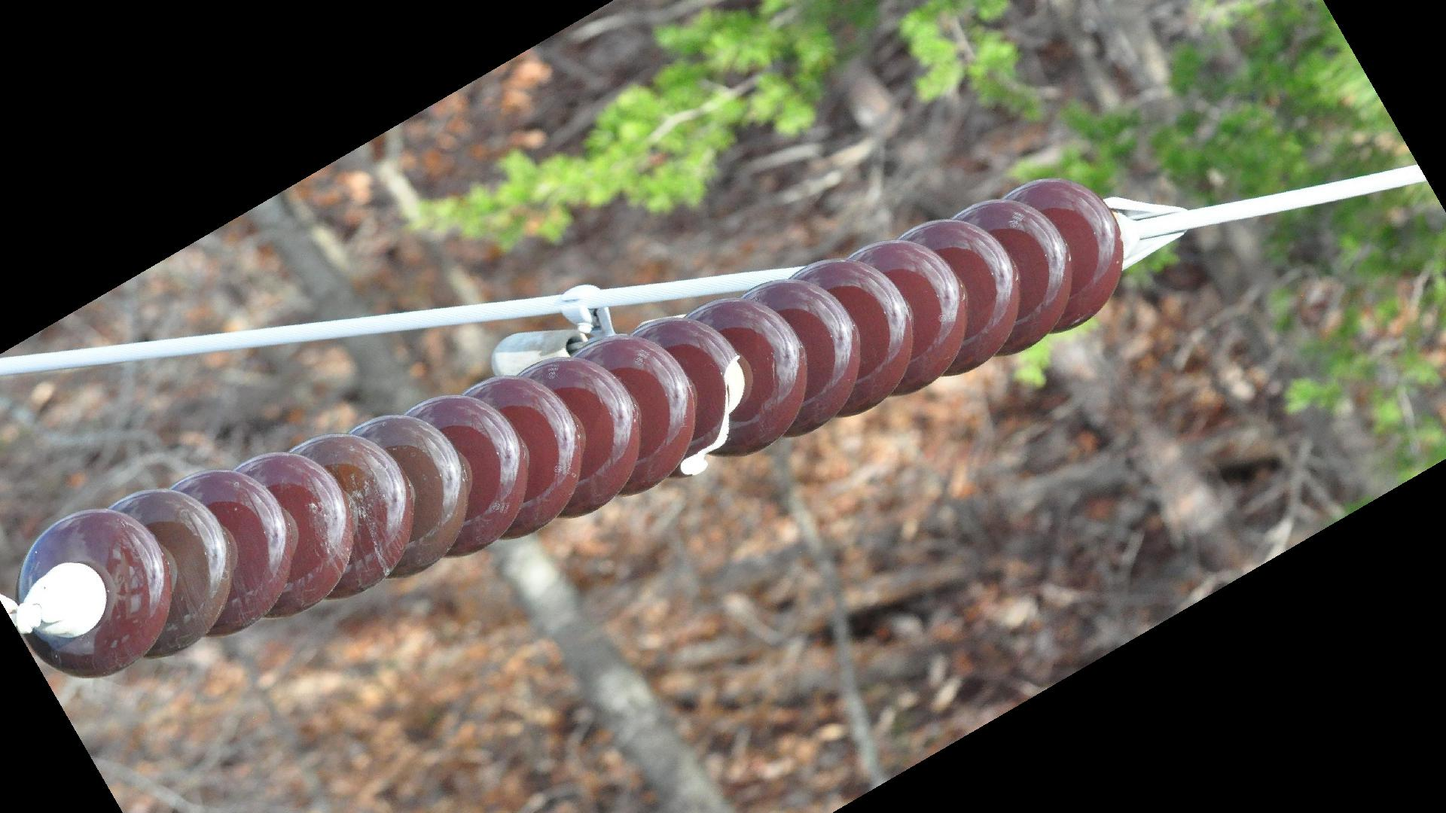insulator: (8, 172, 1132, 683)
insulator_breakage: (674, 346, 749, 483)
